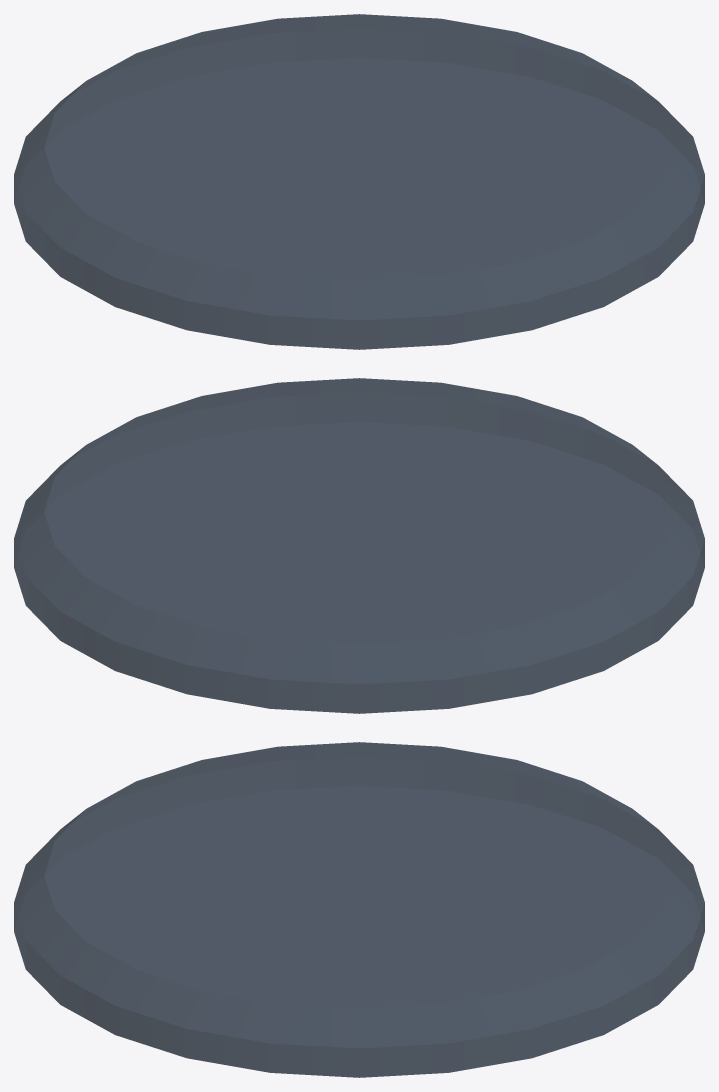
The model's file is original-21.obj.
3 renders of one model, top to bottom at view 1: azimuth 30°, elevation 25°; view 2: azimuth 150°, elevation 25°; view 3: azimuth 270°, elevation 25°, orthographic.
Visible parts, largest first — view 1: Group_13/mesh100/mesh100-geometry#mesh100-geometry; view 2: Group_13/mesh100/mesh100-geometry#mesh100-geometry; view 3: Group_13/mesh100/mesh100-geometry#mesh100-geometry.
Part boxes in pixels (left/top/right/bottom): Group_13/mesh100/mesh100-geometry#mesh100-geometry: left=14, top=14, right=704, bottom=349; Group_13/mesh100/mesh100-geometry#mesh100-geometry: left=14, top=378, right=704, bottom=713; Group_13/mesh100/mesh100-geometry#mesh100-geometry: left=14, top=742, right=704, bottom=1077.
Bounding box in the file's own units: 0.1568 × 0.0141 × 0.1568.
